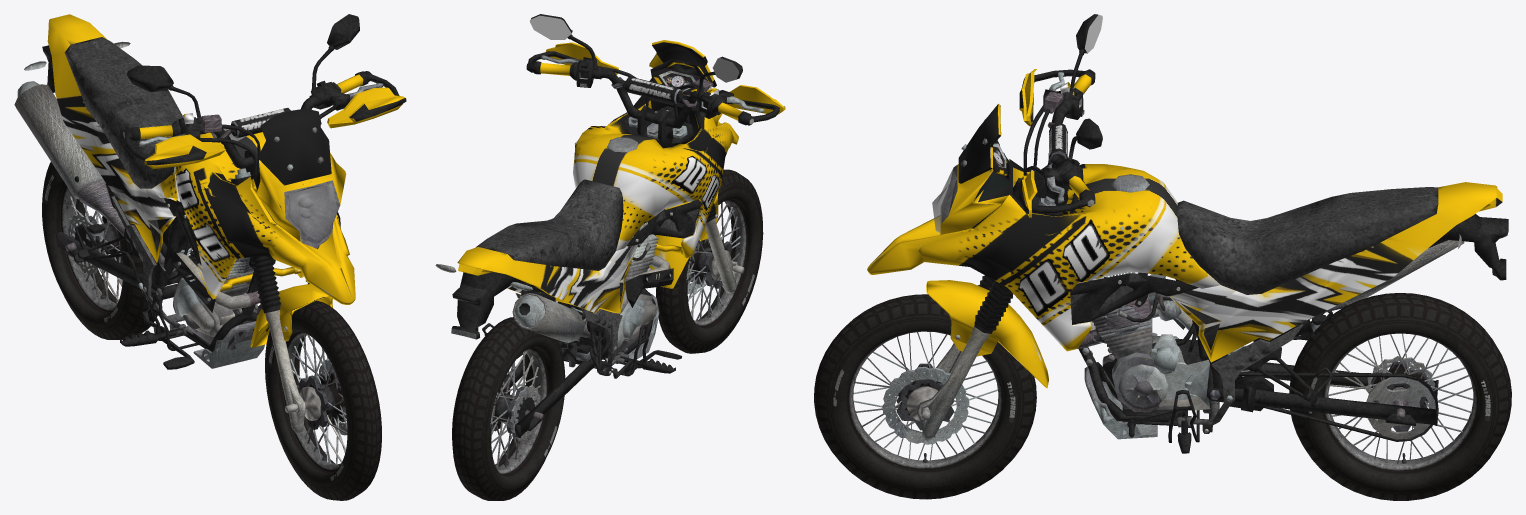
File: AdventureDirtBike.fbx
3 views of the same model, side by side, from view 1: azimuth 30°, elevation 25°; view 2: azimuth 150°, elevation 25°; view 3: azimuth 270°, elevation 25° (orthographic). The views are drawn at different scales.
Visible parts, largest first — view 1: Body, FWheel, Handles, RWheel, FrontSuspension, RearSuspension; view 2: Body, RWheel, Handles, FWheel, FrontSuspension, RearSuspension; view 3: Body, RWheel, FWheel, Handles, FrontSuspension, RearSuspension.
Boxes of the visible parts, box(x1,y1,x2,y2) form: Body: box(14, 14, 355, 369); FWheel: box(265, 300, 381, 500); Handles: box(123, 14, 406, 313); RWheel: box(42, 162, 162, 339); FrontSuspension: box(250, 284, 333, 432); RearSuspension: box(56, 231, 195, 299); Body: box(435, 40, 738, 378); RWheel: box(452, 317, 565, 500); Handles: box(526, 14, 785, 222); FWheel: box(656, 169, 763, 353); FrontSuspension: box(649, 192, 737, 293); RearSuspension: box(503, 331, 609, 437); Body: box(867, 103, 1508, 453); RWheel: box(1289, 293, 1511, 500); FWheel: box(814, 294, 1036, 499); Handles: box(974, 14, 1102, 333); FrontSuspension: box(916, 280, 1048, 440); RearSuspension: box(1206, 362, 1438, 441).
Size of the model in its own units: 110 by 159 by 235.
6 materials, 4 textured.
